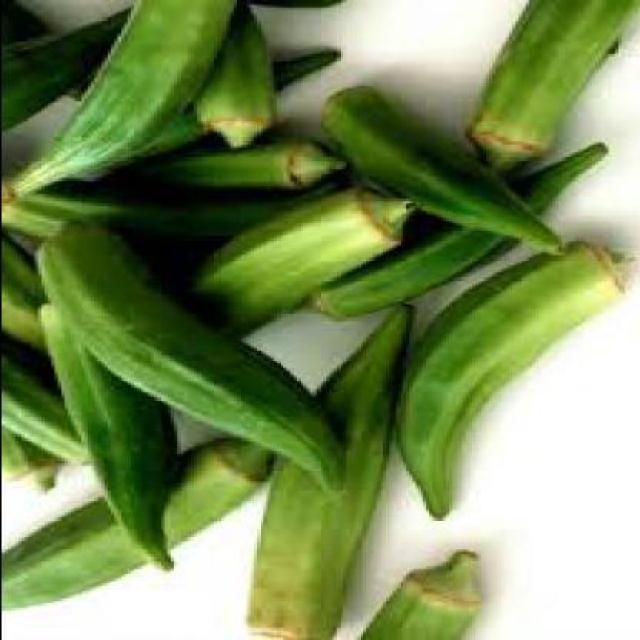BIODEGRADABLE: (30, 218, 341, 491), (388, 238, 637, 518), (245, 301, 404, 637), (308, 139, 601, 316), (2, 434, 263, 614), (1, 0, 228, 194), (312, 83, 558, 252), (176, 186, 412, 343), (33, 299, 169, 567), (460, 0, 636, 172), (2, 166, 302, 243), (2, 1, 126, 130), (190, 0, 272, 148), (352, 547, 478, 638), (2, 331, 86, 462), (123, 140, 339, 189), (2, 235, 43, 358), (1, 423, 54, 495), (242, 0, 341, 8)
